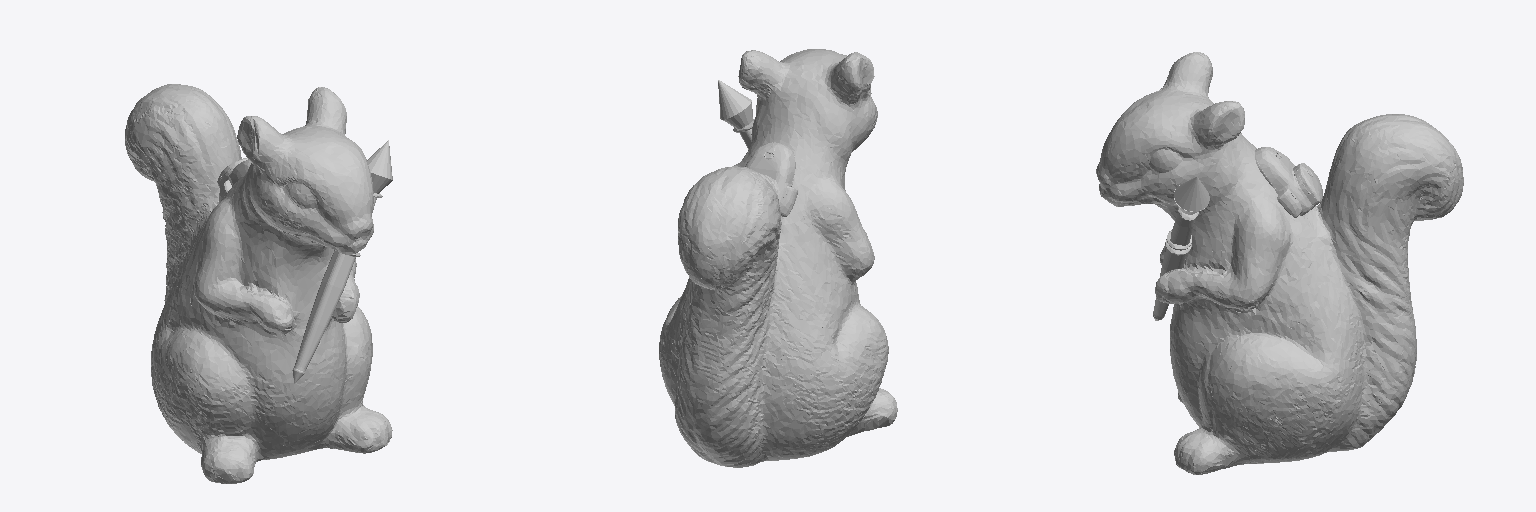
Rendered from squirrel-designer.obj.
3 renders of one model, left to right at view 1: azimuth 30°, elevation 25°; view 2: azimuth 150°, elevation 25°; view 3: azimuth 270°, elevation 25°, orthographic.
Parts seen in each view (by area): view 1: squirrel-designer, Cube_Cube.001, 15236_Backpack, Cone.002; view 2: squirrel-designer, 15236_Backpack, Cone.002; view 3: squirrel-designer, 15236_Backpack, Cube_Cube.001, Cone.002.
Boxes of the visible parts, <box> form: squirrel-designer: <box>125,84,392,483</box>; Cube_Cube.001: <box>294,197,376,371</box>; 15236_Backpack: <box>217,158,251,202</box>; Cone.002: <box>367,140,392,179</box>; squirrel-designer: <box>659,49,897,467</box>; 15236_Backpack: <box>745,142,797,216</box>; Cone.002: <box>718,80,751,119</box>; squirrel-designer: <box>1096,52,1463,474</box>; 15236_Backpack: <box>1255,147,1322,217</box>; Cube_Cube.001: <box>1153,213,1194,318</box>; Cone.002: <box>1174,177,1209,211</box>.
Bounding box in the file's own units: 2.19 × 3.88 × 3.57.